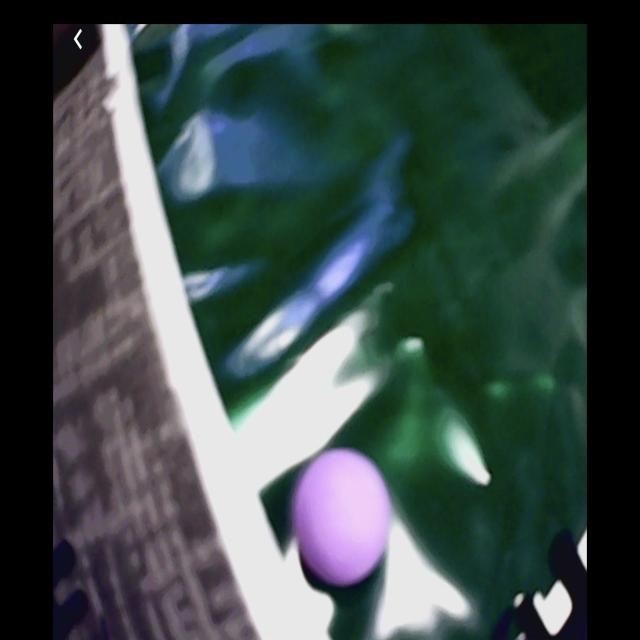ball: (298, 450, 391, 583)
